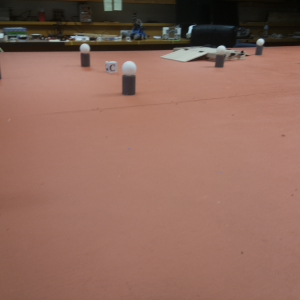obstacle: (121, 63, 137, 97), (213, 46, 226, 70), (79, 44, 91, 70), (254, 39, 264, 55)
side: (224, 49, 245, 62)
slope: (166, 49, 204, 64)
